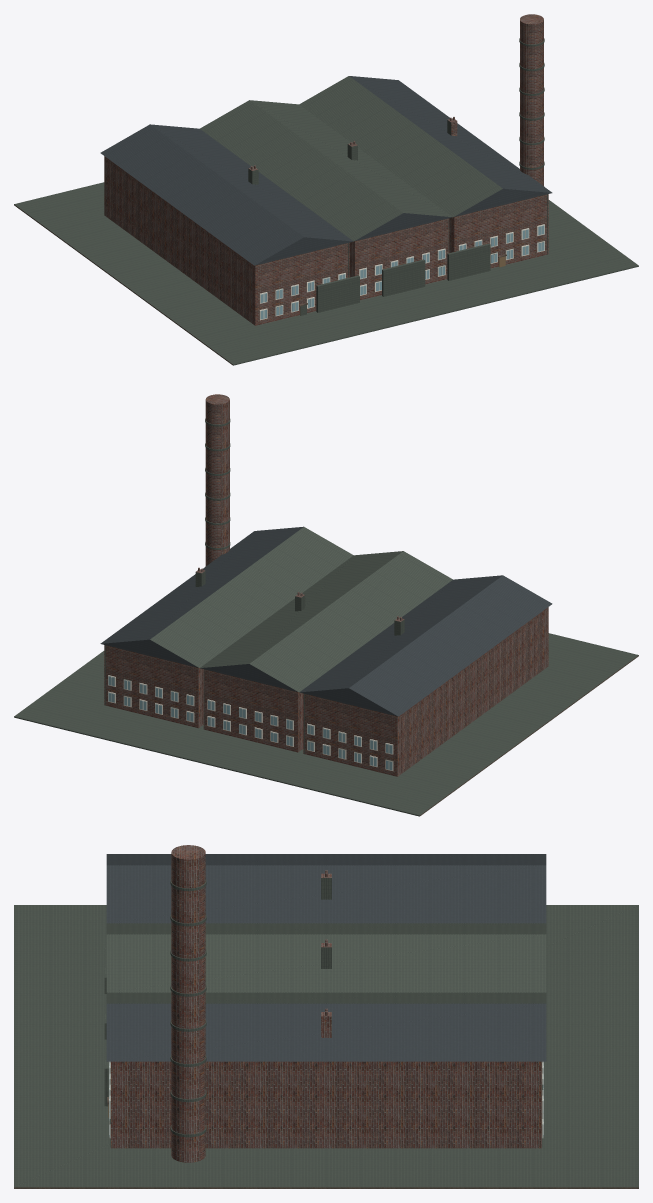
Rendered from damaged1.gltf.
3 views of the same model, one above another, from view 1: azimuth 30°, elevation 25°; view 2: azimuth 150°, elevation 25°; view 3: azimuth 270°, elevation 25° (orthographic). The views are drawn at different scales.
Parts seen in each view (by area): view 1: britainfactory_damaged1; view 2: britainfactory_damaged1; view 3: britainfactory_damaged1.
Part boxes in pixels (x1,y1,x2,y2): britainfactory_damaged1: (14,14,638,365); britainfactory_damaged1: (14,394,638,816); britainfactory_damaged1: (14,845,638,1188).
Bounding box in the file's own units: 155 × 78 × 145.
8 materials, 5 textured.
